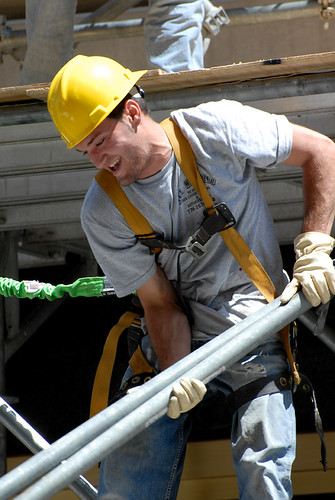person hardhat: (27, 54, 335, 500)
